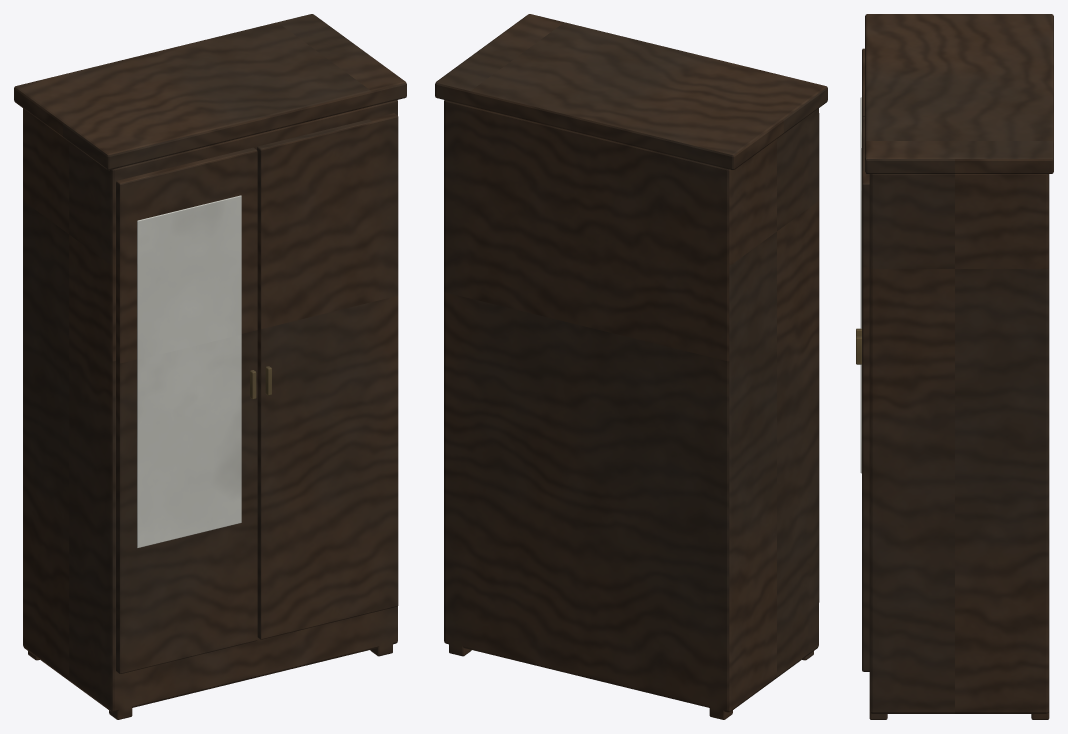
Rendered from B04_wooden_wardrobe_v2.glb.
3 views of the same model, side by side, from view 1: azimuth 30°, elevation 25°; view 2: azimuth 150°, elevation 25°; view 3: azimuth 270°, elevation 25° (orthographic).
Visible parts, largest first — view 1: B04_wooden_wardrobe_v2; view 2: B04_wooden_wardrobe_v2; view 3: B04_wooden_wardrobe_v2.
Boxes of the visible parts, x1=… form: B04_wooden_wardrobe_v2: x1=14, y1=14, x2=406, y2=719; B04_wooden_wardrobe_v2: x1=435, y1=14, x2=827, y2=719; B04_wooden_wardrobe_v2: x1=856, y1=14, x2=1053, y2=719.
Bounding box in the file's own units: 1.1 × 2 × 0.6316.
Materials: 7 (7 with a texture image).
